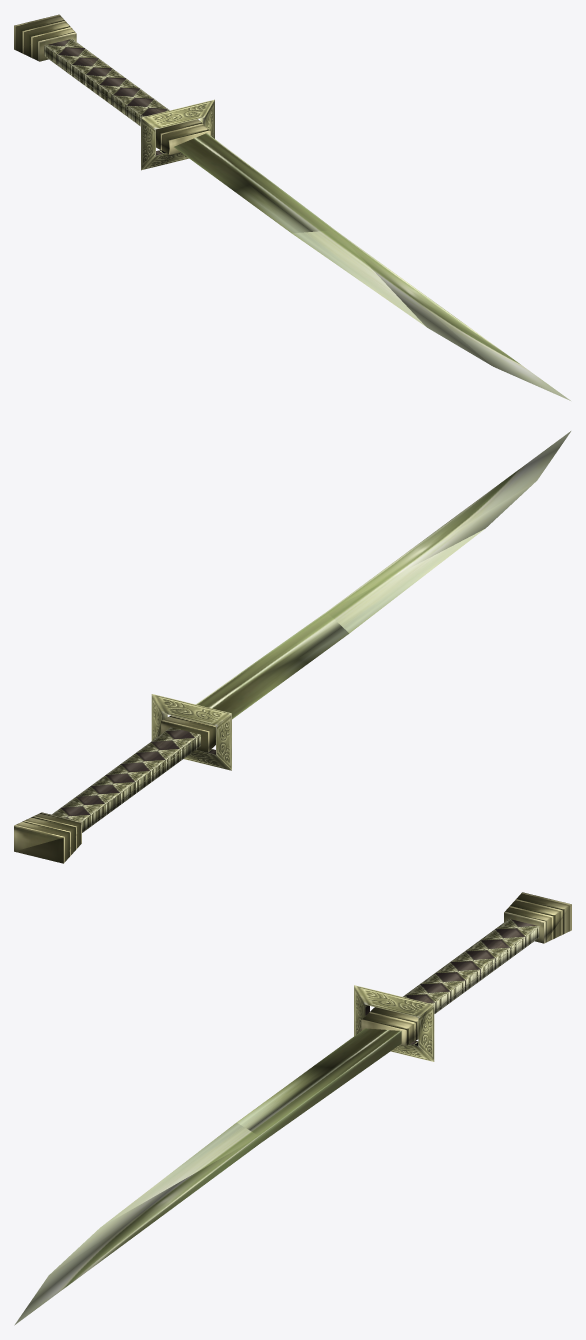
The picture shows the model from 3 angles, top to bottom: view 1: azimuth 30°, elevation 25°; view 2: azimuth 150°, elevation 25°; view 3: azimuth 330°, elevation 25°; orthographic projection. The views are drawn at different scales.
Parts seen in each view (by area): view 1: W11_0; view 2: W11_0; view 3: W11_0.
Part boxes in pixels (box(x1,y1,x2,y2)): W11_0: box(14, 14, 570, 400); W11_0: box(14, 431, 570, 863); W11_0: box(14, 892, 571, 1325).
Size of the model in its own units: 1.72 by 1.17 by 20.66.
1 material, 1 textured.
